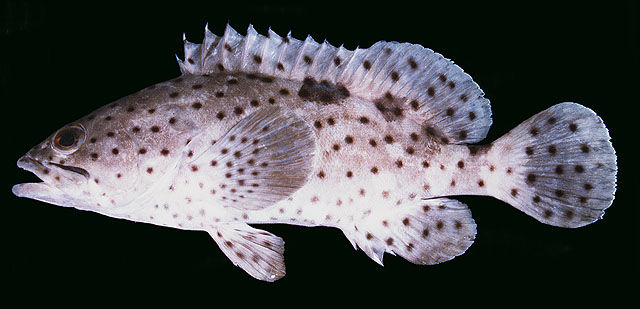fish: (12, 22, 618, 283)
